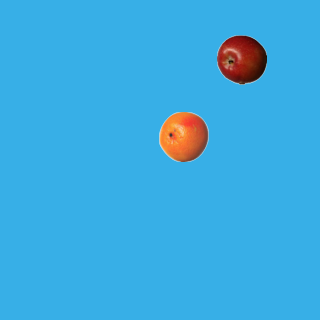Apple Braeburn: (216, 34, 266, 84)
Grapefruit Pink: (158, 111, 208, 161)
